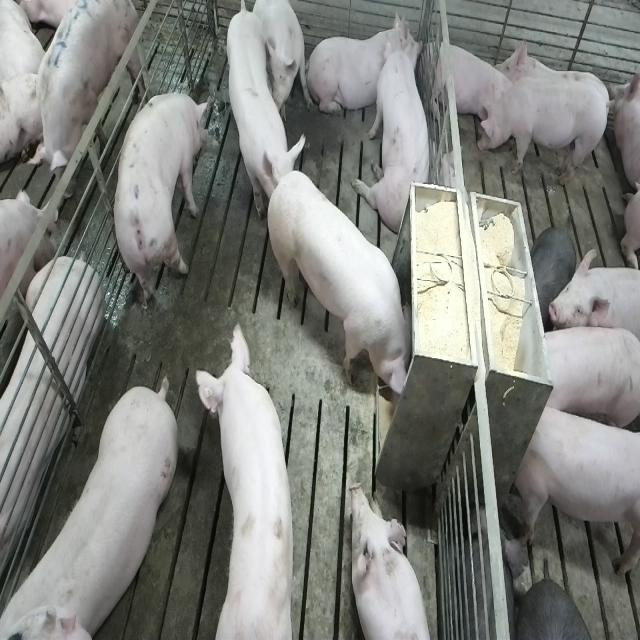Feeding: (270, 160, 421, 400)
Lateral_lying: (0, 223, 100, 584)
Sitting: (359, 10, 435, 235), (245, 2, 307, 125)
Standing: (6, 373, 182, 635), (201, 317, 300, 638), (512, 396, 638, 577), (27, 0, 142, 192), (115, 89, 207, 318), (226, 6, 311, 228), (478, 80, 612, 188), (538, 324, 638, 433), (549, 248, 640, 357)
Sternal_lying: (348, 482, 433, 640), (308, 17, 422, 124), (428, 35, 510, 133)
